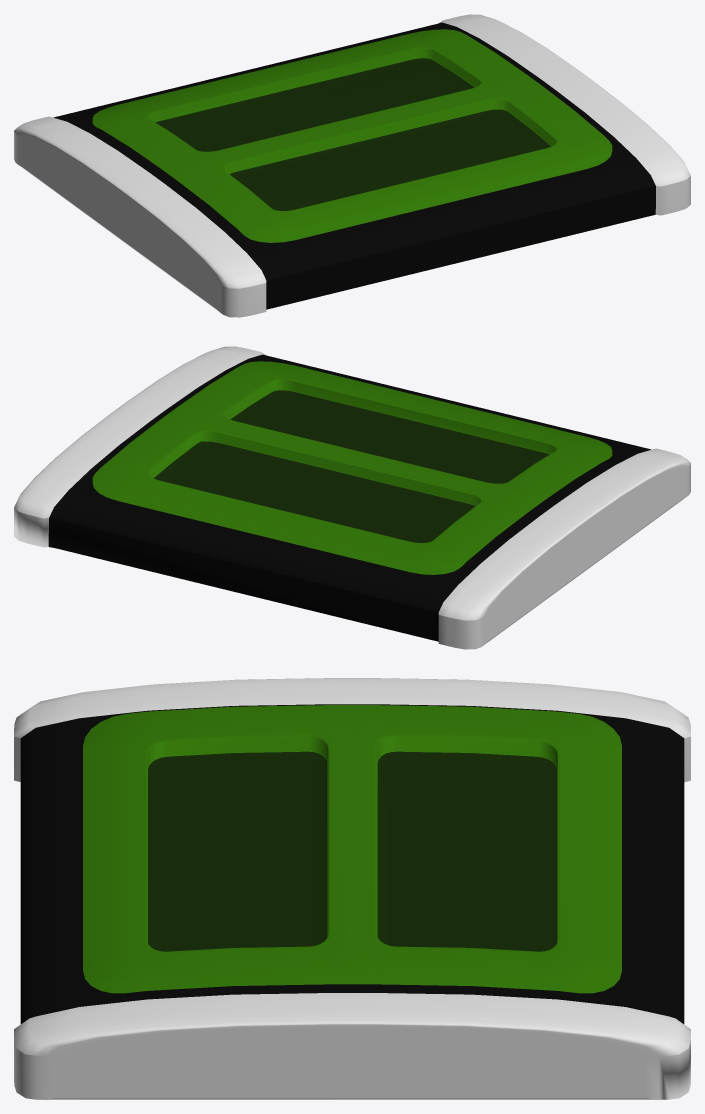
The model's file is guitarFret.fbx.
3 views of the same model, one above another, from view 1: azimuth 30°, elevation 25°; view 2: azimuth 150°, elevation 25°; view 3: azimuth 270°, elevation 25° (orthographic). The views are drawn at different scales.
Parts seen in each view (by area): view 1: Frets Placeholder.007; view 2: Frets Placeholder.007; view 3: Frets Placeholder.007.
Boxes of the visible parts, left/top/right/bottom form: Frets Placeholder.007: left=14, top=14, right=690, bottom=317; Frets Placeholder.007: left=14, top=346, right=690, bottom=649; Frets Placeholder.007: left=14, top=678, right=690, bottom=1099.
Bounding box in the file's own units: 270 × 31.62 × 224.
